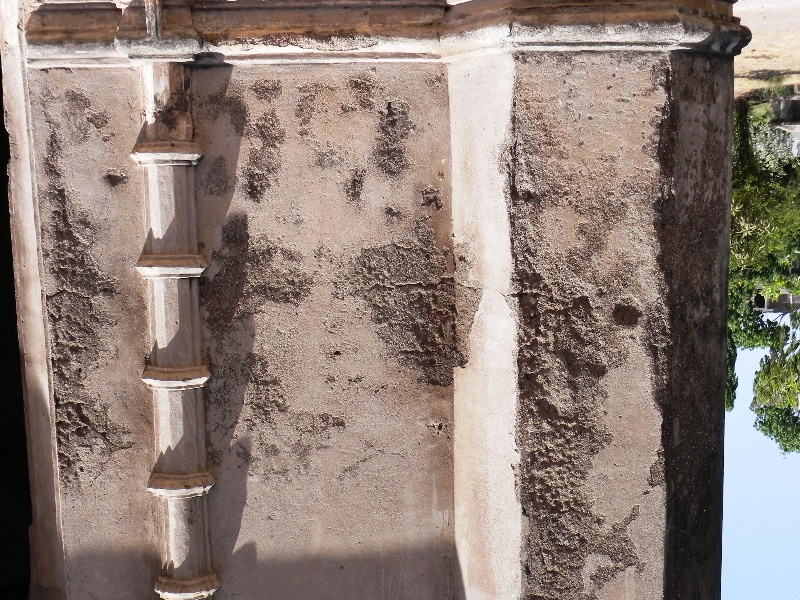Spalling: (496, 71, 661, 597), (327, 73, 488, 402), (26, 121, 131, 489)
